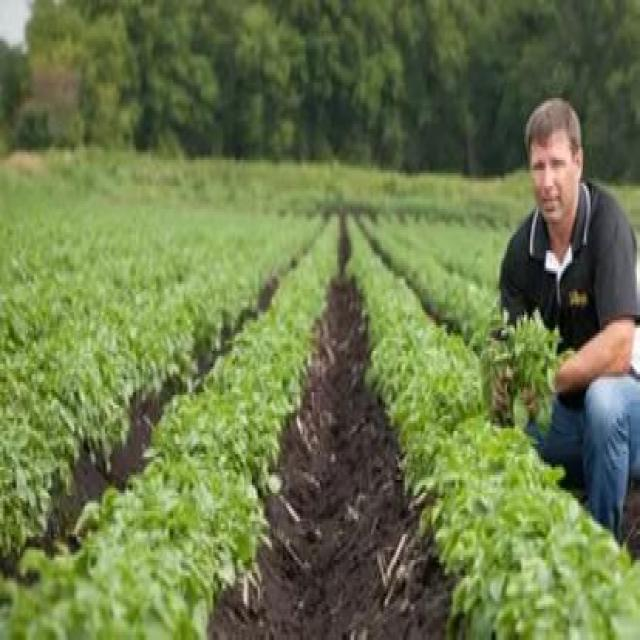row: (215, 214, 473, 639)
